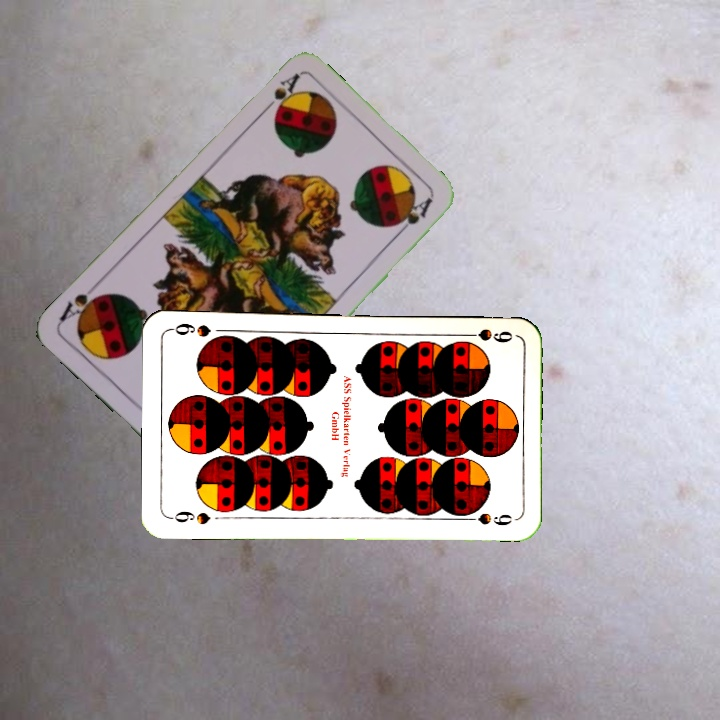S9: (457, 324, 515, 346), (166, 506, 213, 527)
SA: (256, 69, 303, 117)
